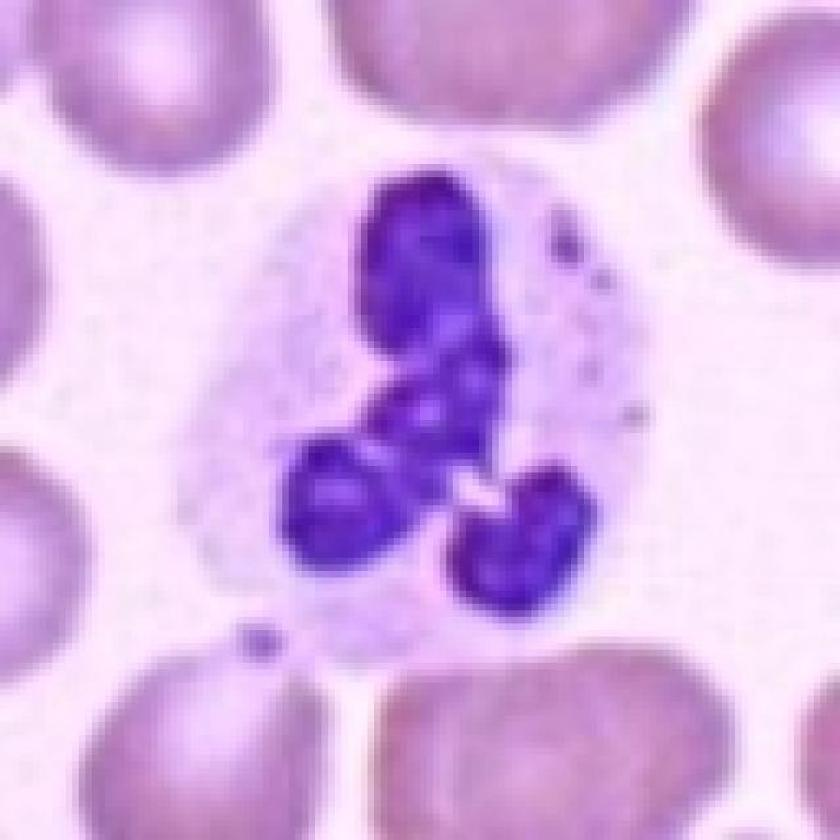neutrophil: (122, 149, 693, 647)
